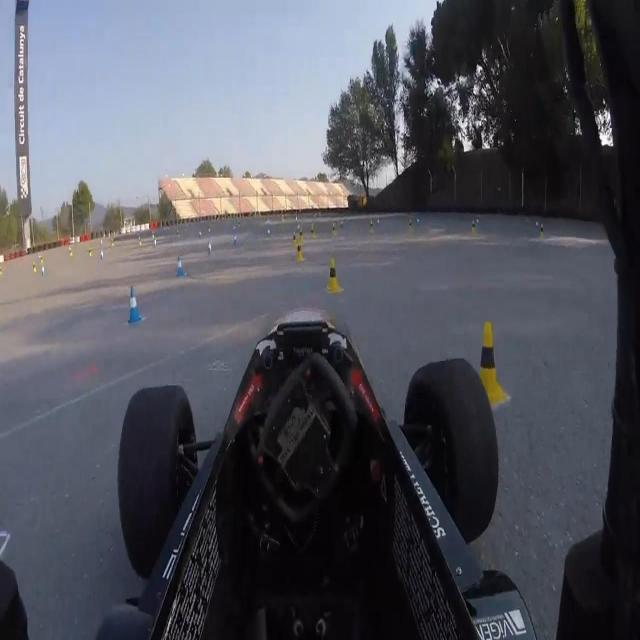blue_cone: (126, 285, 142, 326), (175, 256, 184, 277), (207, 240, 213, 258), (232, 230, 238, 248)
yellow_cone: (475, 322, 503, 408), (326, 258, 342, 294), (296, 239, 303, 262), (330, 222, 338, 238), (539, 222, 545, 241), (292, 228, 297, 250), (470, 219, 476, 237), (310, 223, 316, 240), (368, 219, 374, 235), (407, 219, 413, 235), (298, 226, 303, 245)
